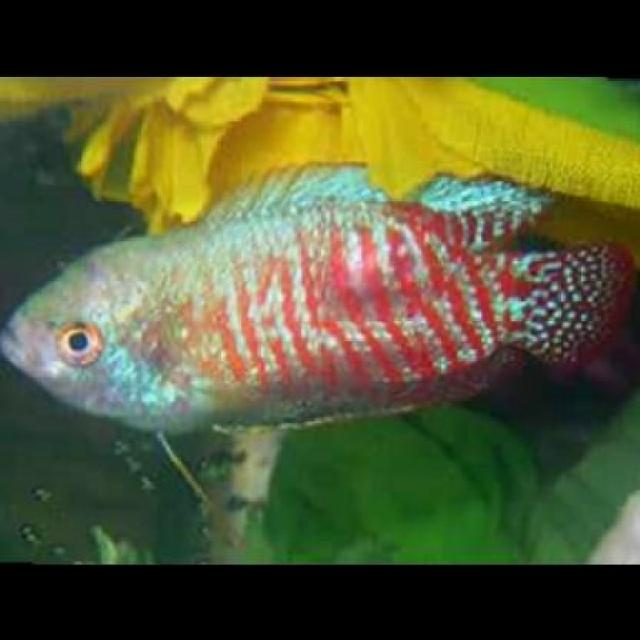Gourami: (0, 160, 620, 442)
